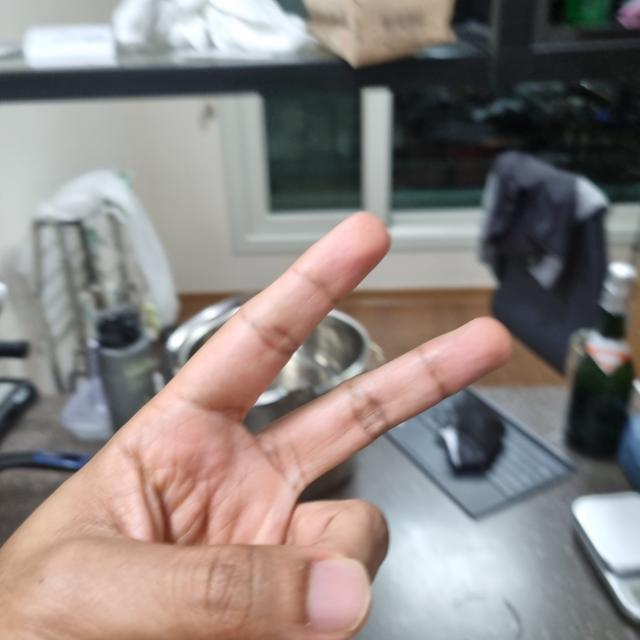Scissors: (1, 214, 511, 639)
